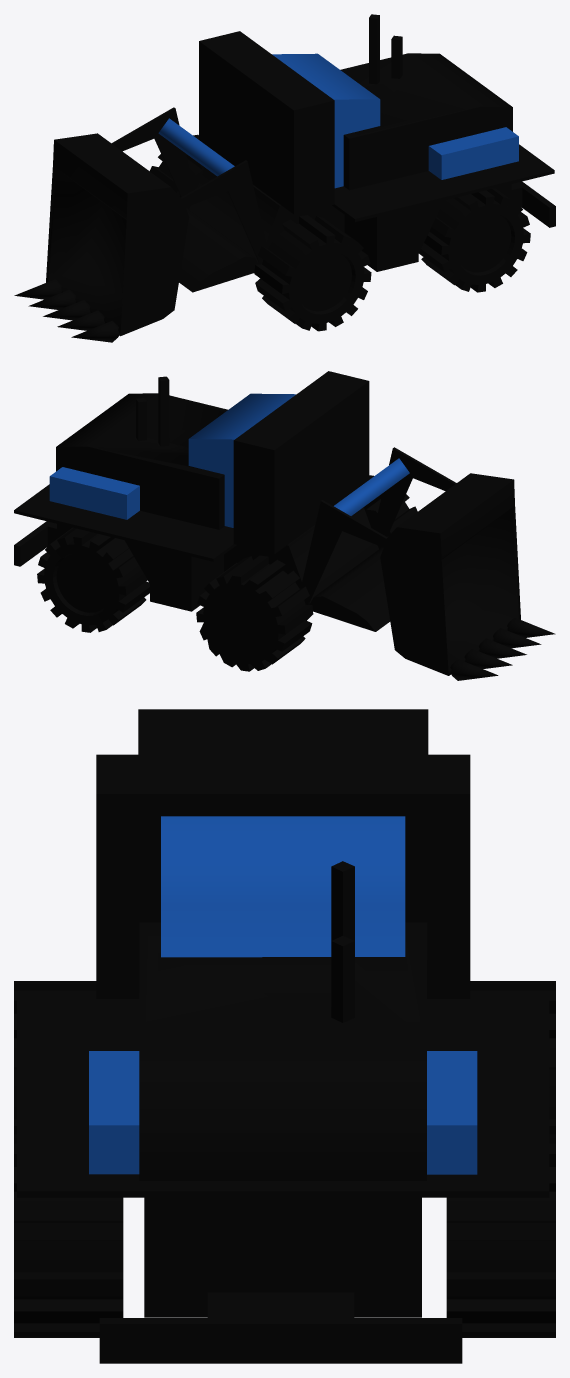
The model's file is construction_dozer.fbx.
3 views of the same model, one above another, from view 1: azimuth 30°, elevation 25°; view 2: azimuth 150°, elevation 25°; view 3: azimuth 270°, elevation 25° (orthographic). The views are drawn at different scales.
Parts seen in each view (by area): view 1: Cylinder, Cylinder.001, Cylinder.002, Cylinder.004; view 2: Cylinder, Cylinder.004, Cylinder.003, Cylinder.001; view 3: Cylinder, Cylinder.003, Cylinder.002, Cylinder.004, Cylinder.001.
Boxes of the visible parts, left/top/right/bottom form: Cylinder: left=14, top=14, right=555, bottom=342; Cylinder.001: left=254, top=215, right=371, bottom=331; Cylinder.002: left=419, top=188, right=530, bottom=292; Cylinder.004: left=150, top=134, right=204, bottom=197; Cylinder: left=14, top=371, right=555, bottom=680; Cylinder.004: left=196, top=555, right=313, bottom=671; Cylinder.003: left=37, top=527, right=149, bottom=632; Cylinder.001: left=364, top=475, right=417, bottom=537; Cylinder: left=17, top=709, right=549, bottom=1363; Cylinder.003: left=446, top=1134, right=555, bottom=1337; Cylinder.002: left=14, top=1134, right=123, bottom=1337; Cylinder.004: left=470, top=981, right=555, bottom=1134; Cylinder.001: left=14, top=981, right=96, bottom=1134.
Bounding box in the file's own units: 1045 × 471 × 532.
